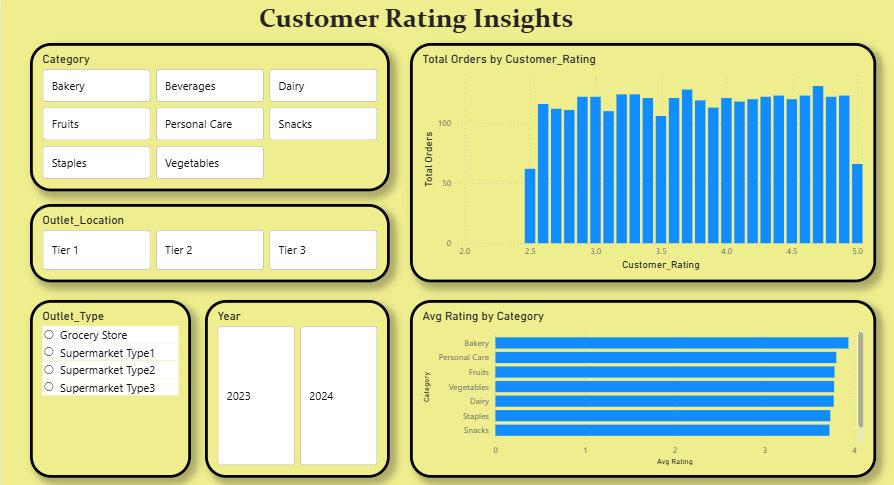

The dashboard page shown, as its layout file describes it:
{"tool":"powerbi","page":{"name":"Customer Rating Insights","canvas":[1280,720],"ordinal":3},"visuals":[{"type":"clusteredColumnChart","fields":{"Category":["Blinkit.Customer_Rating"],"Y":["Blinkit.Total Orders"]},"box":[584,64,666,342],"z":0},{"type":"barChart","fields":{"Category":["Blinkit.Category"],"Y":["Blinkit.Avg Rating"]},"box":[584,432,666,254],"z":1},{"type":"advancedSlicerVisual","fields":{"Values":["Blinkit.Category"]},"box":[42,64,514,212],"z":2},{"type":"listSlicer","fields":{"Values":["Blinkit.Outlet_Type"]},"box":[42,432,230,254],"z":3},{"type":"advancedSlicerVisual","fields":{"Values":["Blinkit.Outlet_Location"]},"box":[42,294,514,112],"z":4},{"type":"advancedSlicerVisual","fields":{"Values":["Blinkit.Order_Date.Variation.Date Hierarchy.Year"]},"box":[292,432,264,254],"z":5},{"type":"textbox","box":[100,0,986,64],"z":6}]}

Visuals, with their boxes in screenshot pixels (x1, y1, x2, y2):
clusteredColumnChart - Blinkit.Customer_Rating x Blinkit.Total Orders: <box>406,44,864,279</box>
barChart - Blinkit.Category x Blinkit.Avg Rating: <box>406,297,864,472</box>
advancedSlicerVisual - Blinkit.Category: <box>34,44,387,190</box>
listSlicer - Blinkit.Outlet_Type: <box>34,297,192,472</box>
advancedSlicerVisual - Blinkit.Outlet_Location: <box>34,202,387,279</box>
advancedSlicerVisual - Blinkit.Order_Date.Variation.Date Hierarchy.Year: <box>205,297,387,472</box>
textbox: <box>73,0,751,44</box>
